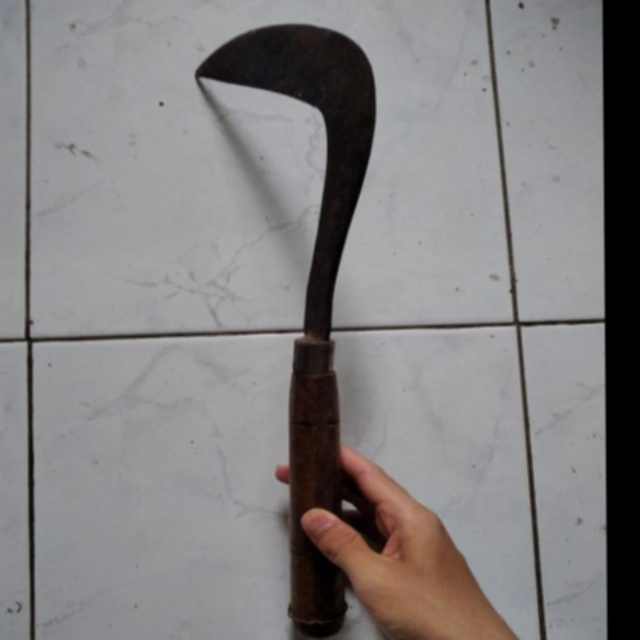Sharp-Object: (179, 0, 401, 640)
